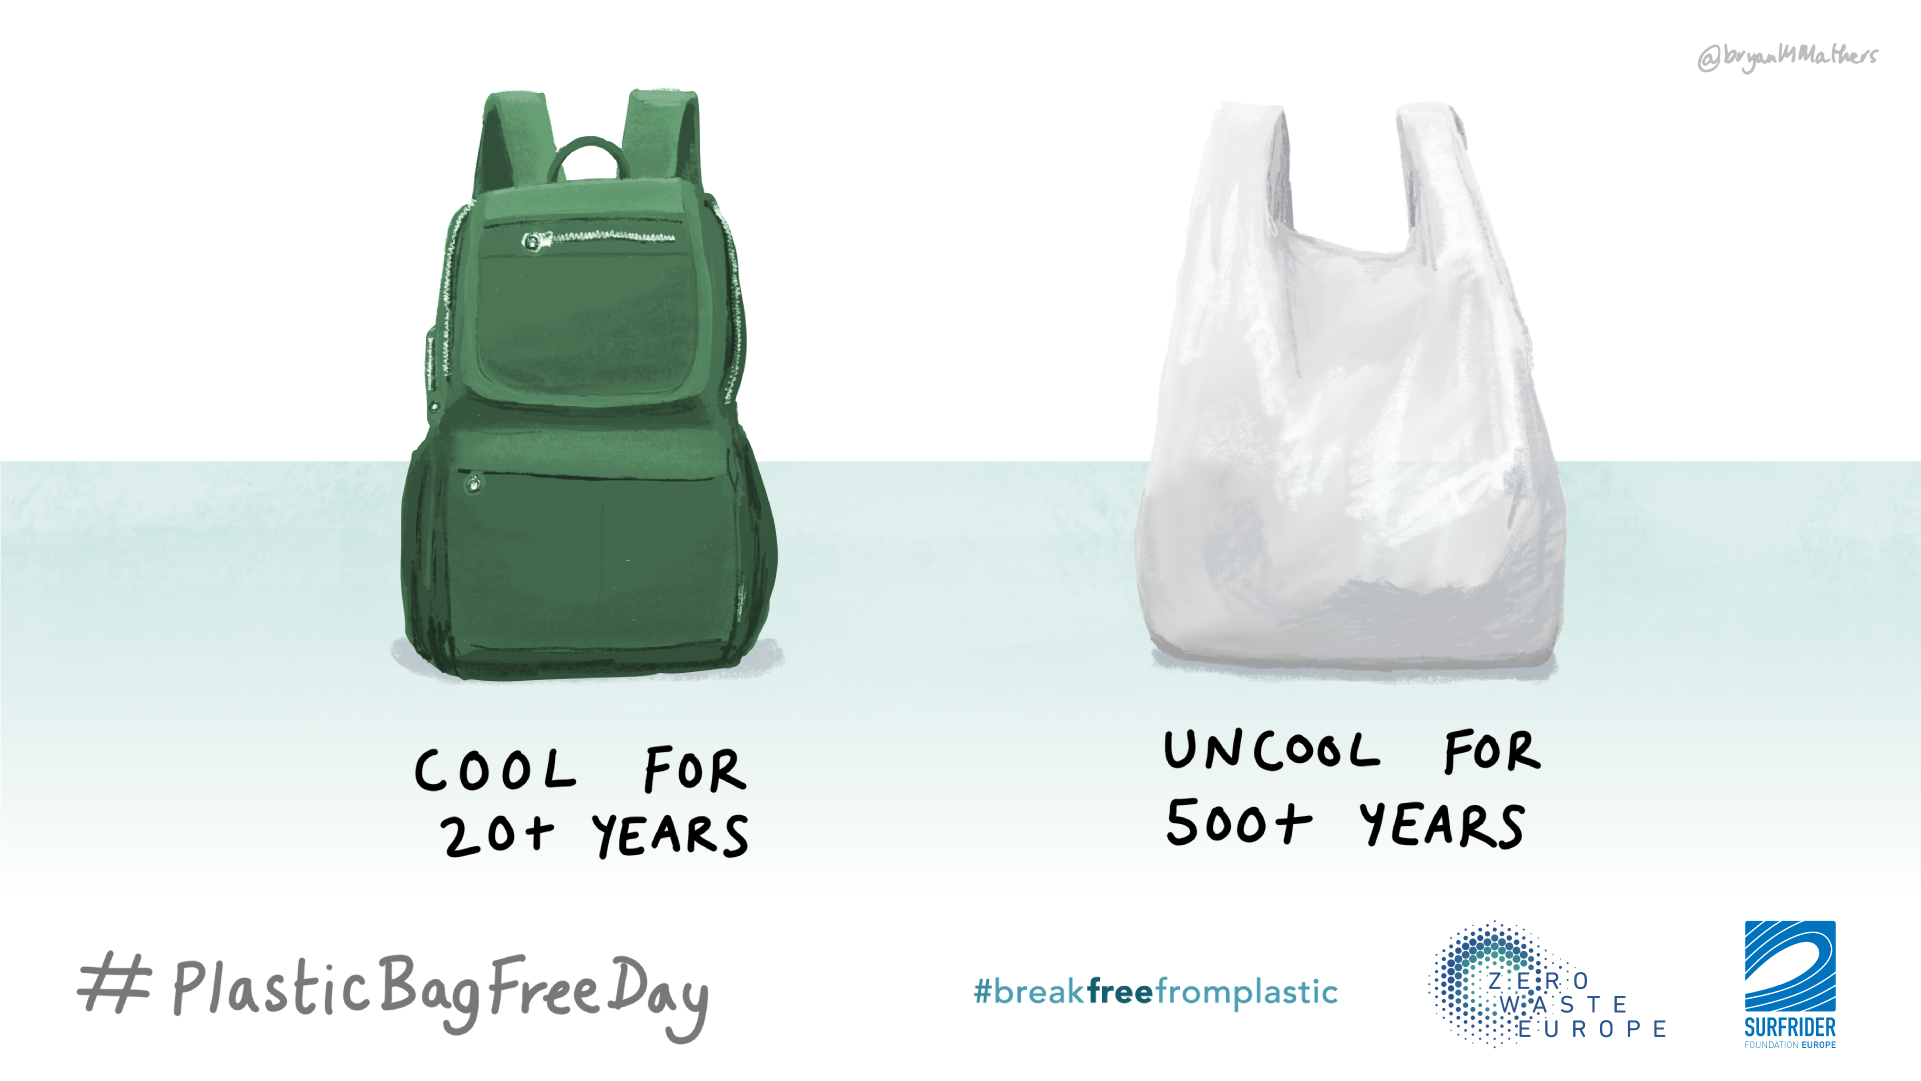plastic_bagwdw: (1092, 37, 1614, 766)
